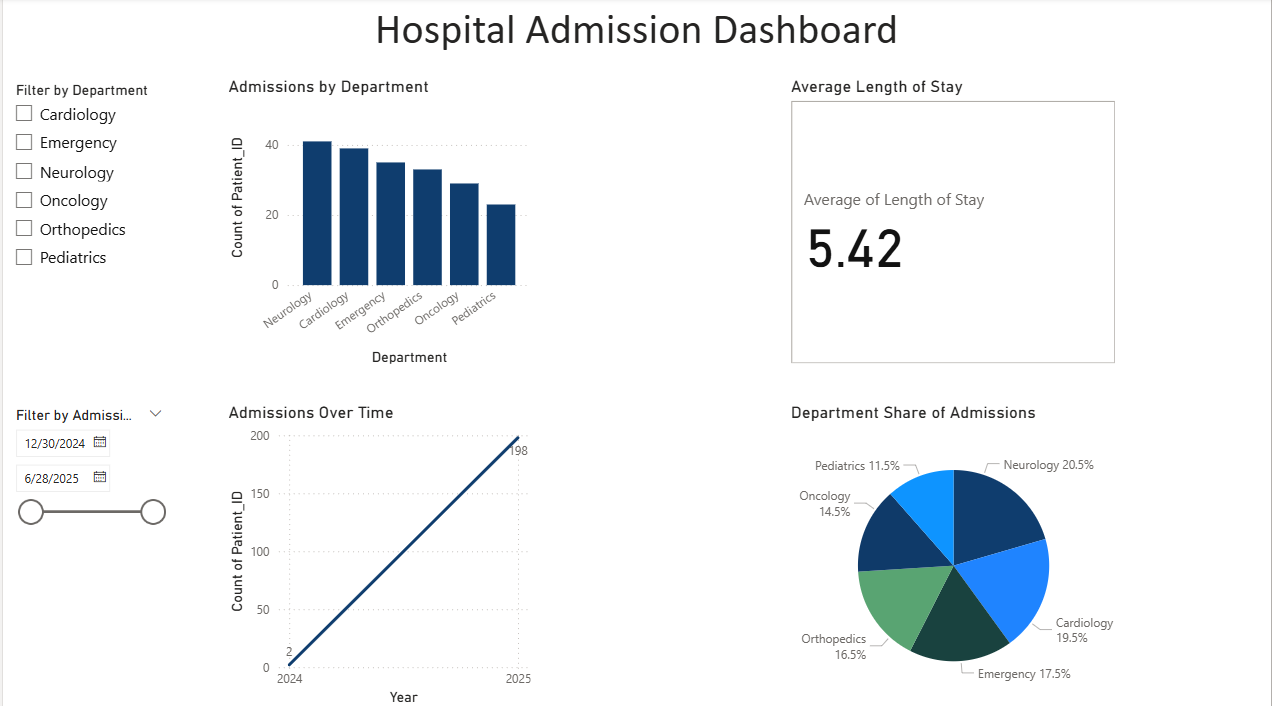

Layout of this report page (visuals, bound fields, positions):
{"tool":"powerbi","page":{"name":"Page 1","canvas":[1280,720],"ordinal":0},"visuals":[{"type":"clusteredColumnChart","title":"Admissions by Department","fields":{"Category":["Hospital_Patient_Data_Analysis.Department"],"Y":["CountNonNull(Hospital_Patient_Data_Analysis.Patient_ID)"]},"box":[222.6,80.3,315,295.3],"z":0},{"type":"lineChart","title":"Admissions Over Time","fields":{"Category":["Hospital_Patient_Data_Analysis.Admission Date.Variation.Date Hierarchy.Year","Hospital_Patient_Data_Analysis.Admission Date.Variation.Date Hierarchy.Month","Hospital_Patient_Data_Analysis.Admission Date.Variation.Date Hierarchy.Day"],"Y":["CountNonNull(Hospital_Patient_Data_Analysis.Patient_ID)"]},"box":[222.6,408.8,315,310.4],"z":1000},{"type":"cardVisual","title":"Average Length of Stay","fields":{"Data":["Avg(Hospital_Patient_Data_Analysis.Length of Stay)"]},"box":[790.4,80.3,337.7,295.3],"z":2000},{"type":"pieChart","title":"Department Share of Admissions","fields":{"Category":["Hospital_Patient_Data_Analysis.Department"],"Y":["CountNonNull(Hospital_Patient_Data_Analysis.Patient_ID)"]},"box":[790.4,408.8,337.7,310.4],"z":3000},{"type":"textbox","box":[0,0,1279.4,64.3],"z":5000},{"type":"slicer","fields":{"Values":["Hospital_Patient_Data_Analysis.Department"]},"box":[0,80.3,172.6,280.1],"z":5001},{"type":"slicer","fields":{"Values":["Hospital_Patient_Data_Analysis.Admission Date"]},"box":[0,409,173,310],"z":5002}]}

Visuals, with their boxes in screenshot pixels (x1, y1, x2, y2), scaled from the page's 1280x720 canvas onto the 1272x706 screenshot:
"Admissions by Department" clusteredColumnChart: crop(221, 79, 534, 368)
"Admissions Over Time" lineChart: crop(221, 401, 534, 705)
"Average Length of Stay" cardVisual: crop(785, 79, 1121, 368)
"Department Share of Admissions" pieChart: crop(785, 401, 1121, 705)
textbox: crop(0, 0, 1271, 63)
slicer - Hospital_Patient_Data_Analysis.Department: crop(0, 79, 172, 353)
slicer - Hospital_Patient_Data_Analysis.Admission Date: crop(0, 401, 172, 705)
